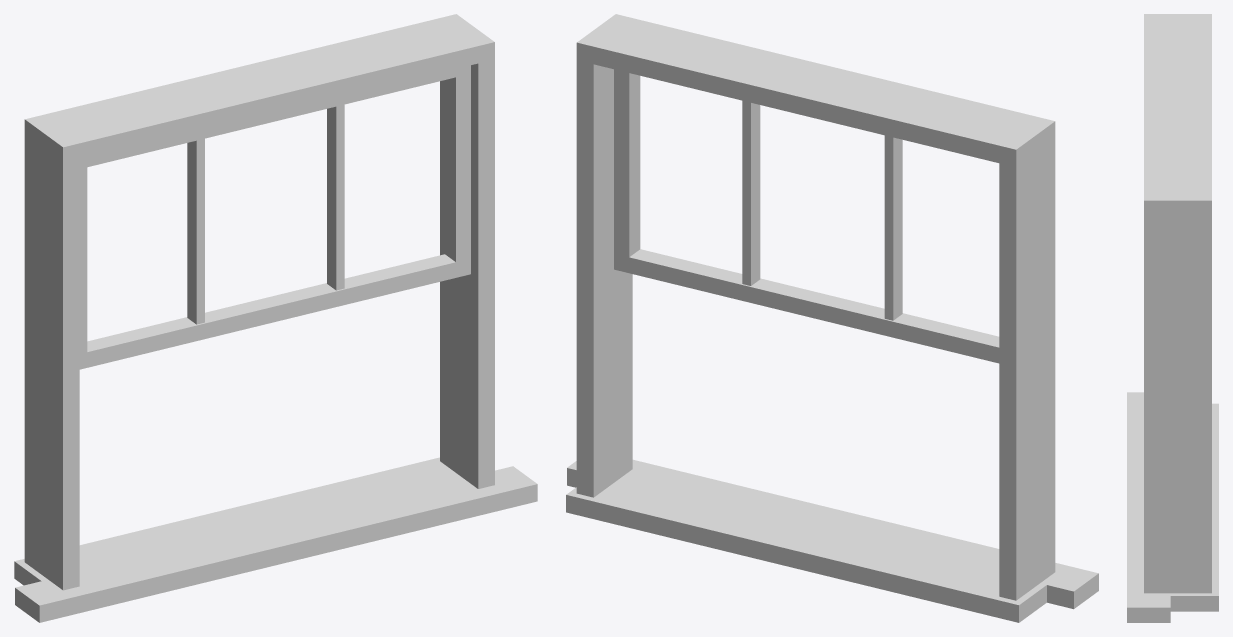
The model's file is Window3_02.fbx.
The picture shows the model from 3 angles, left to right: view 1: azimuth 30°, elevation 25°; view 2: azimuth 150°, elevation 25°; view 3: azimuth 270°, elevation 25°; orthographic projection. The views are drawn at different scales.
Parts seen in each view (by area): view 1: Window3_02; view 2: Window3_02; view 3: Window3_02.
Part boxes in pixels (x1,y1,x2,y2): Window3_02: (14, 14, 537, 622); Window3_02: (566, 14, 1098, 622); Window3_02: (1127, 14, 1218, 622).
Size of the model in its own units: 150 by 133 by 27.
